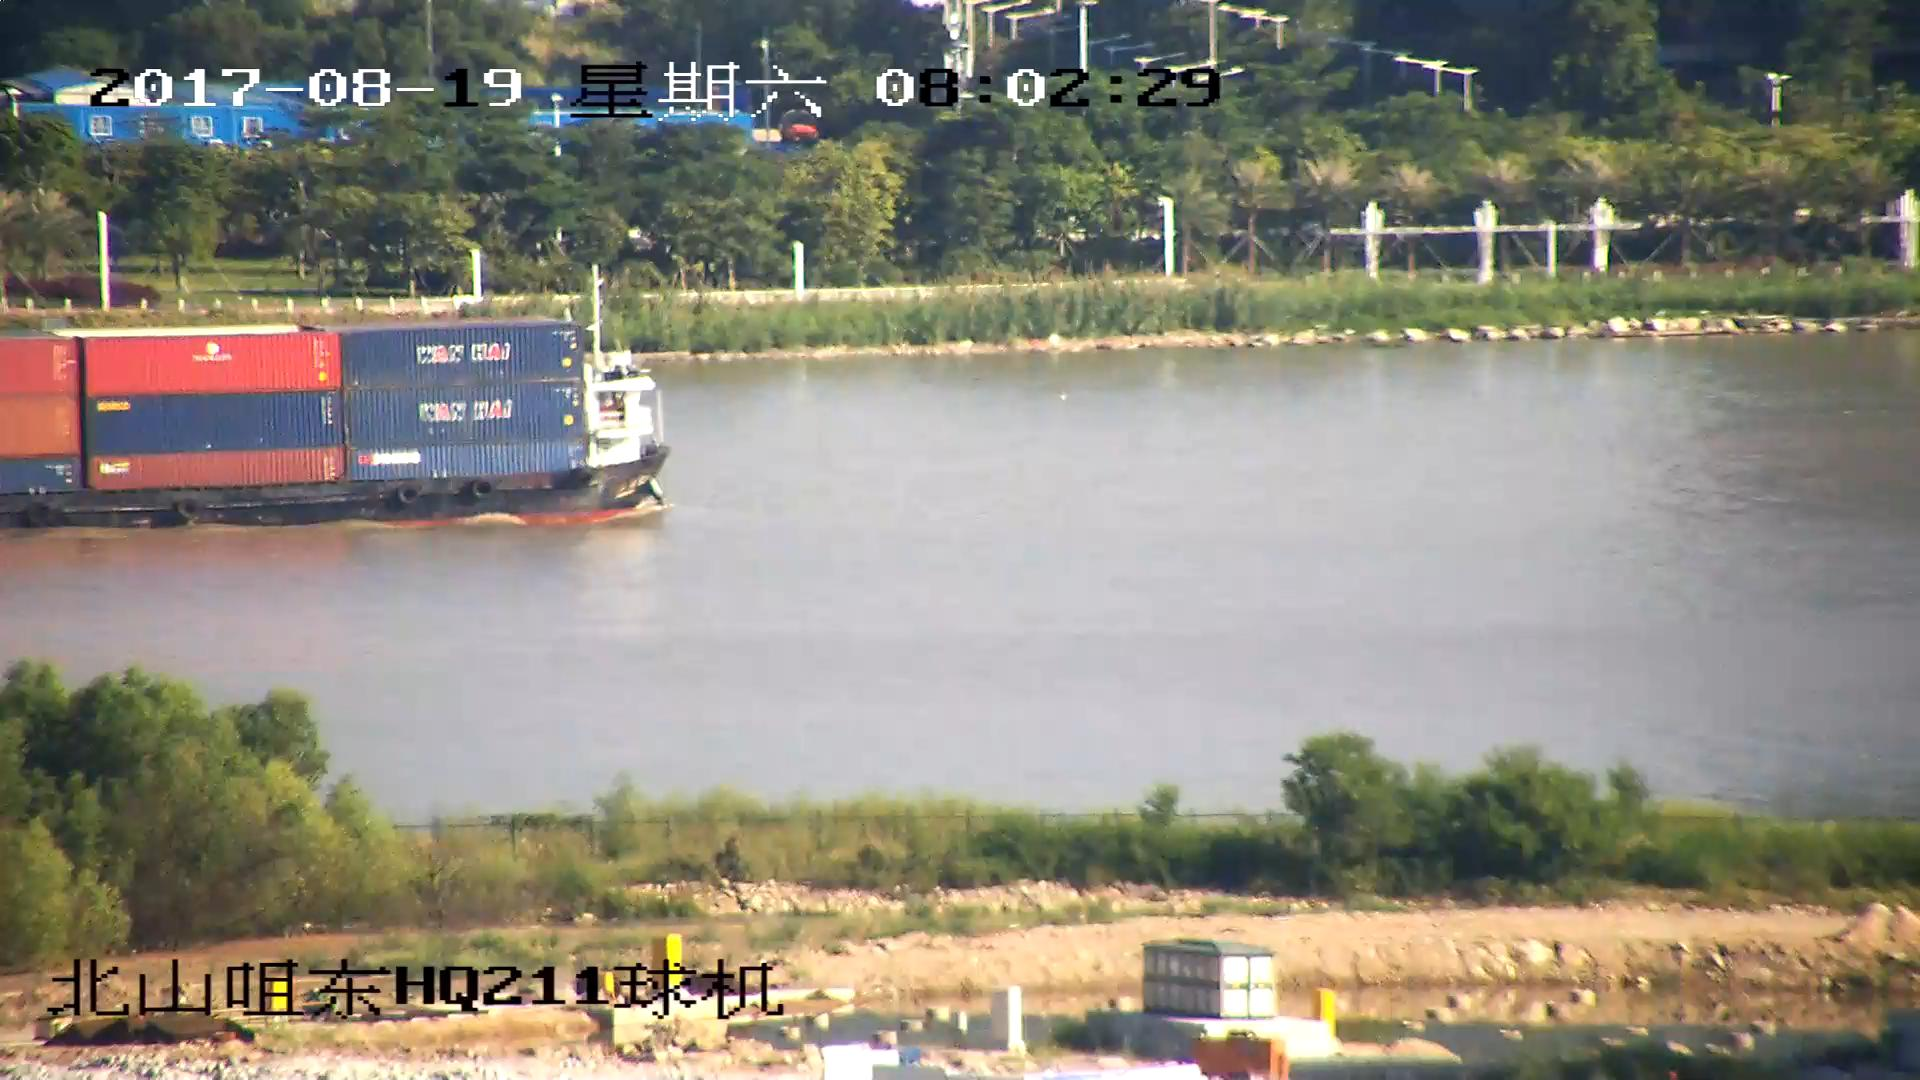container ship: (1, 283, 672, 529)
